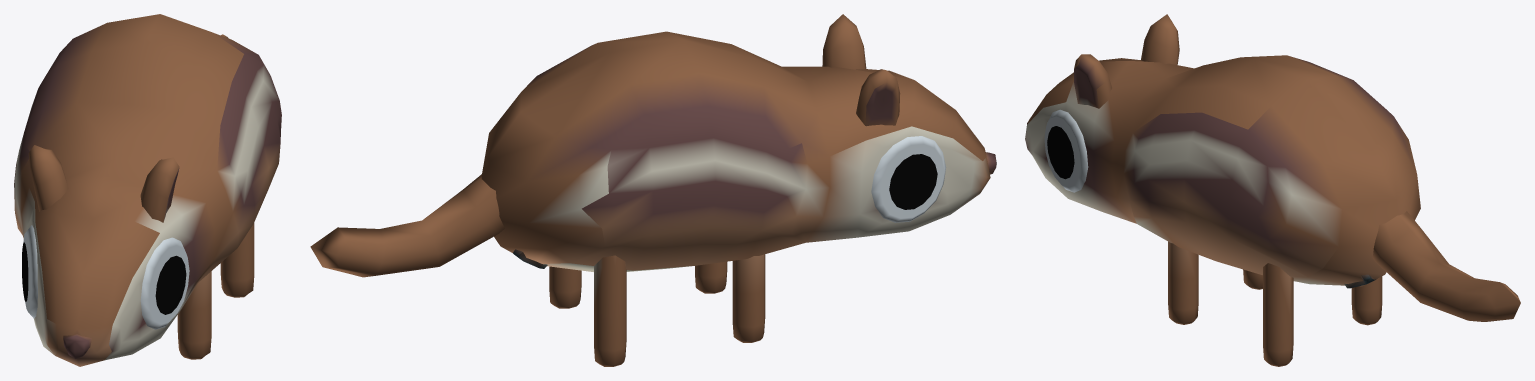
The model's file is Chipmunk.glb.
3 renders of one model, left to right at view 1: azimuth 30°, elevation 25°; view 2: azimuth 150°, elevation 25°; view 3: azimuth 270°, elevation 25°, orthographic. The views are drawn at different scales.
Parts seen in each view (by area): view 1: 28; view 2: 28; view 3: 28.
Boxes of the visible parts, bbox=[...] form: 28: bbox=[14, 14, 281, 366]; 28: bbox=[310, 14, 996, 366]; 28: bbox=[1025, 14, 1520, 366].
Size of the model in its own units: 0.6272 by 0.3946 by 0.6899.
